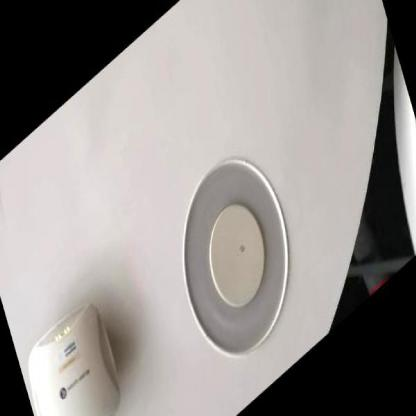light_off: (146, 78, 322, 413)
